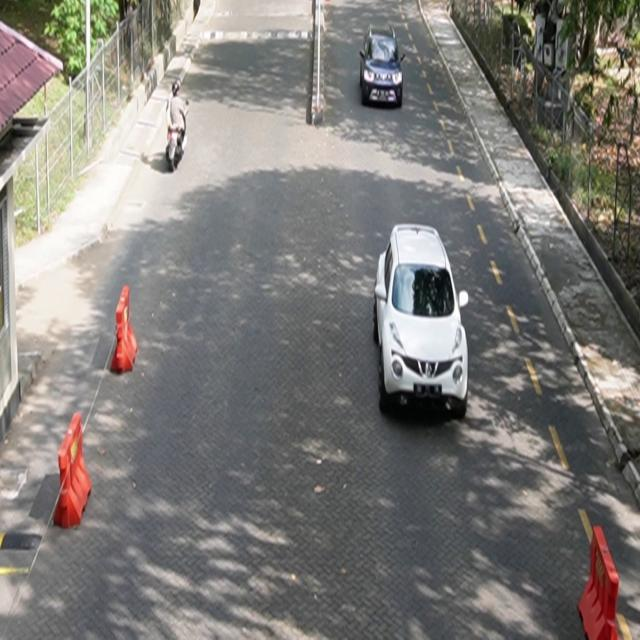car: (373, 224, 470, 420), (360, 23, 406, 109)
